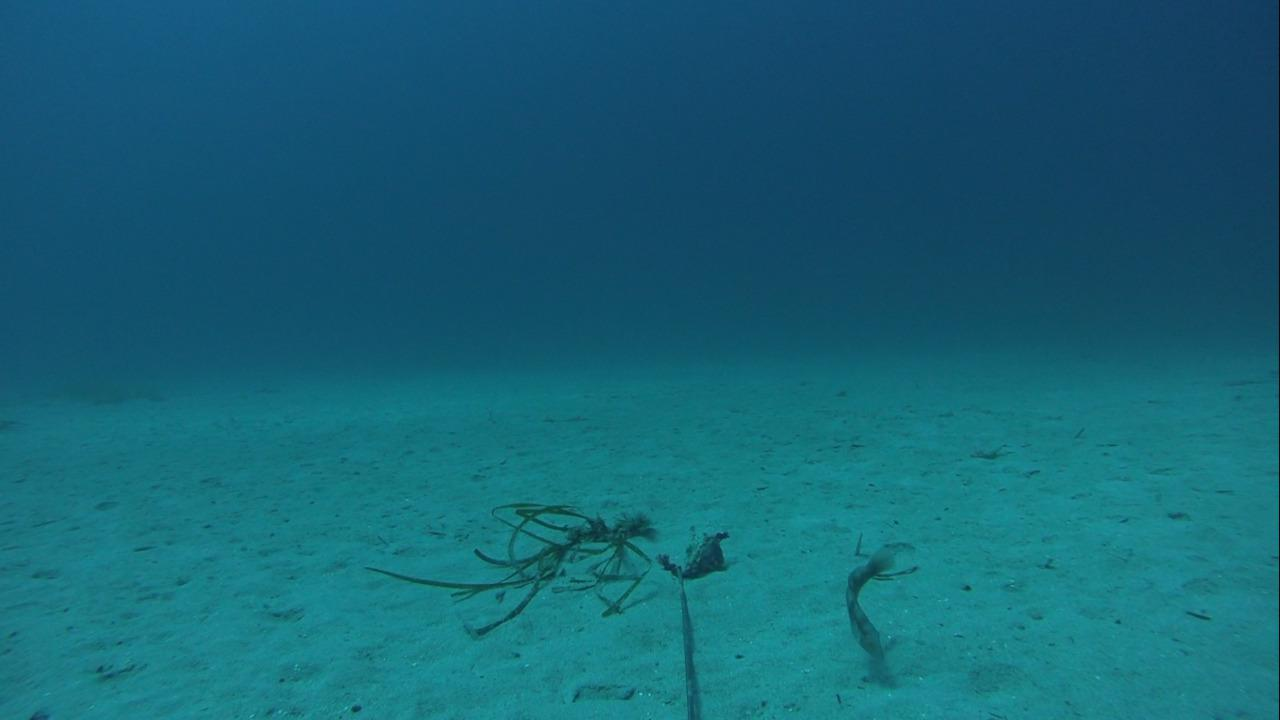raor: (839, 546, 907, 693)
